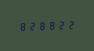eight: (48, 19, 57, 30), (17, 21, 26, 31), (38, 20, 47, 30)
two: (27, 20, 36, 31), (58, 19, 67, 30), (68, 19, 77, 29)
